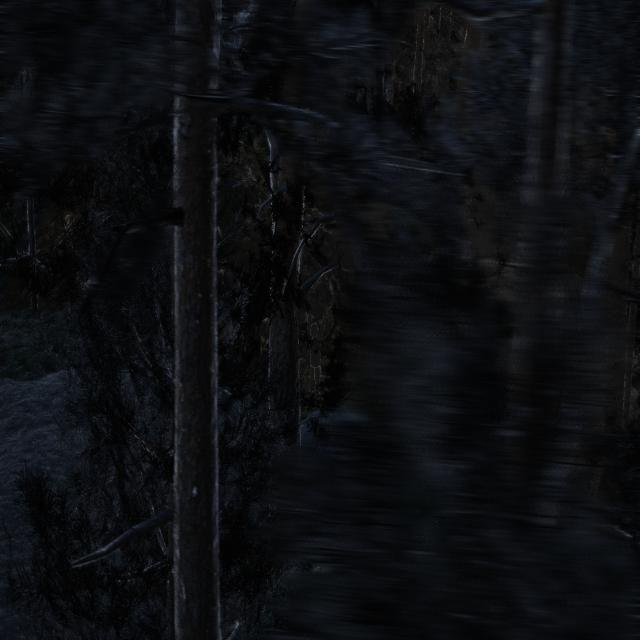Human: (303, 300, 333, 417)
